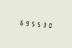five: (30, 19, 35, 27), (36, 20, 41, 28)
nine: (23, 18, 28, 27)
six: (17, 18, 22, 26)
three: (42, 20, 47, 28)
zero: (48, 21, 53, 29)
